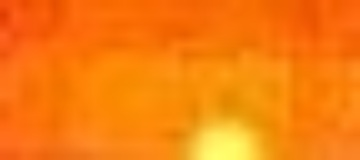Hotspot: (190, 115, 265, 158)
